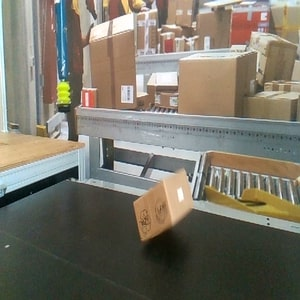box: (132, 167, 195, 243)
